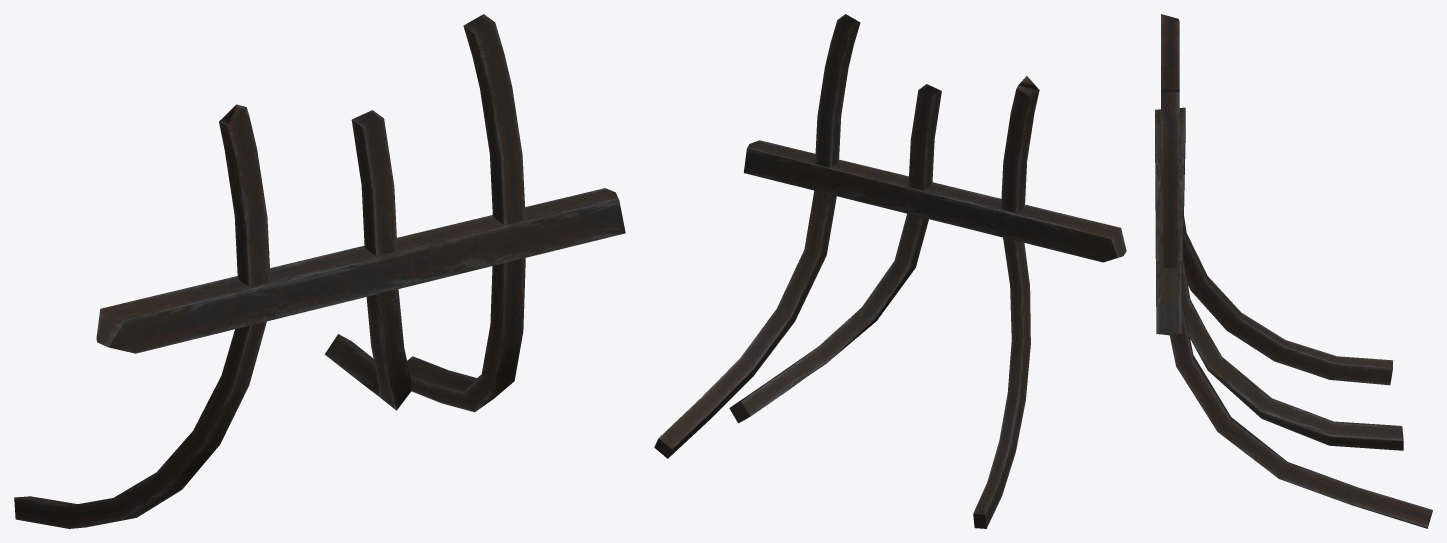
The model's file is tth_metal_bars_01_broken_piece_01.dae.
3 views of the same model, side by side, from view 1: azimuth 30°, elevation 25°; view 2: azimuth 150°, elevation 25°; view 3: azimuth 270°, elevation 25° (orthographic). The views are drawn at different scales.
Visible parts, largest first — view 1: metal_bars_piece_01; view 2: metal_bars_piece_01; view 3: metal_bars_piece_01.
Boxes of the visible parts, x1,y1,x2,y2 form: metal_bars_piece_01: (14, 14, 625, 528); metal_bars_piece_01: (654, 14, 1126, 528); metal_bars_piece_01: (1155, 14, 1432, 528).
Size of the model in its own units: 86.37 by 82.77 by 49.82.
